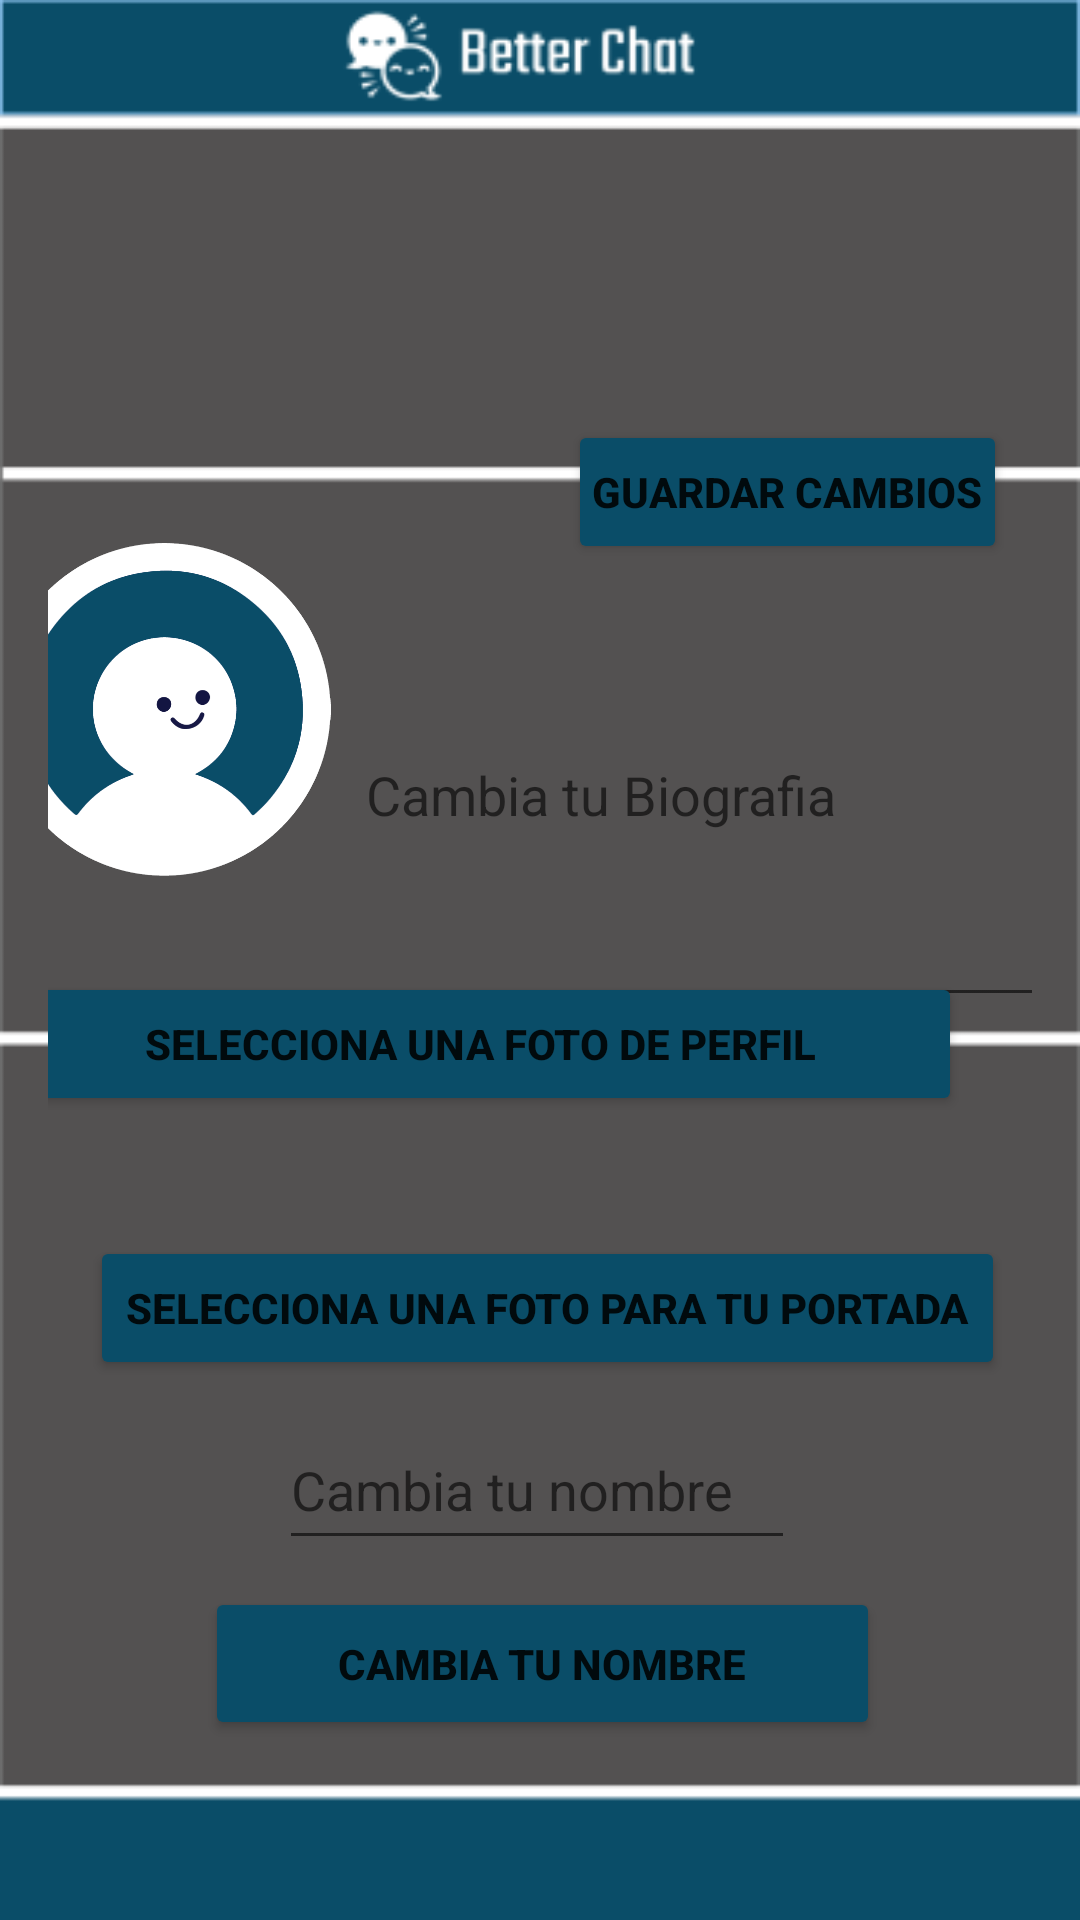

Icons on this 1080 × 1920 Android screen, each with its box as {"x1": x1, "y1": y1, "x2": x2, "y2": y2}:
profile: {"x1": 48, "y1": 543, "x2": 331, "y2": 876}
